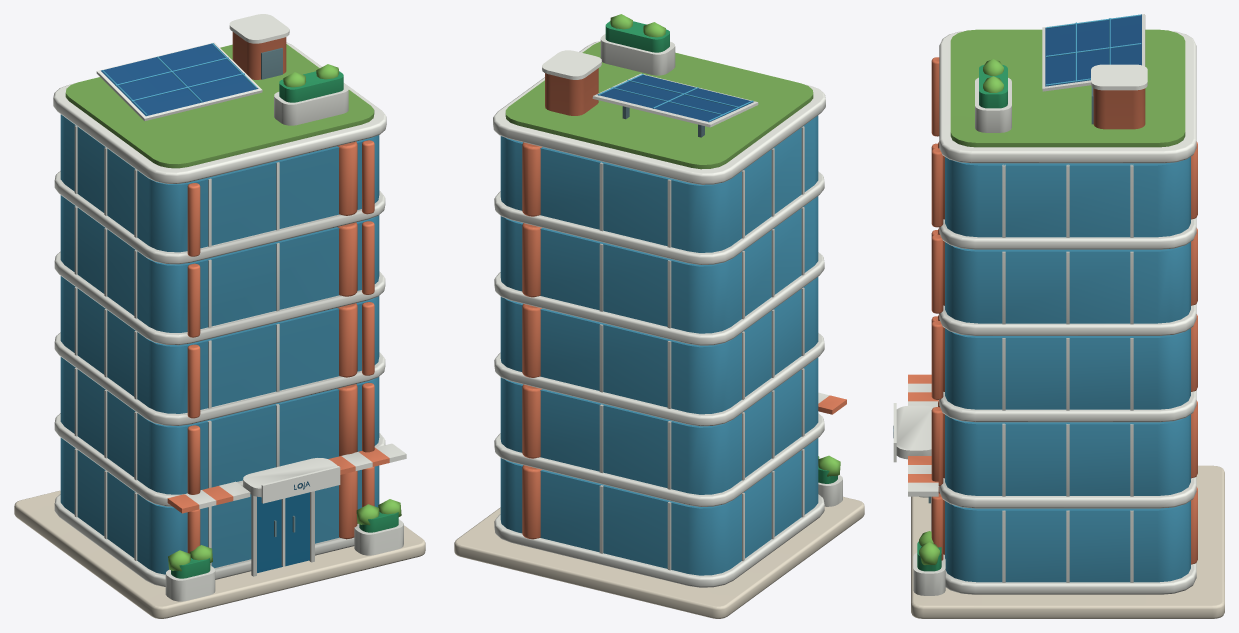
File: townhouse-coral-low.glb
3 views of the same model, side by side, from view 1: azimuth 30°, elevation 25°; view 2: azimuth 150°, elevation 25°; view 3: azimuth 270°, elevation 25° (orthographic). The views are drawn at different scales.
Parts seen in each view (by area): view 1: continuous blue glazing, floor rim, coloured facade fin, green roof, paved building footprint, photovoltaic cells, recessed entrance, planter foliage, shrub tip, roof access hatch; view 2: continuous blue glazing, floor rim, green roof, paved building footprint, coloured facade fin, photovoltaic cells, planter foliage, shrub tip; view 3: continuous blue glazing, floor rim, green roof, paved building footprint, coloured facade fin, photovoltaic cells, planter foliage, shrub tip.
Boxes of the visible parts, x1=… form: continuous blue glazing: x1=60, y1=43, x2=379, y2=574; floor rim: x1=53, y1=14, x2=406, y2=601; coloured facade fin: x1=167, y1=32, x2=389, y2=553; green roof: x1=65, y1=44, x2=374, y2=168; paved building footprint: x1=14, y1=490, x2=425, y2=618; photovoltaic cells: x1=101, y1=43, x2=258, y2=116; recessed entrance: x1=257, y1=492, x2=309, y2=572; planter foliage: x1=171, y1=71, x2=398, y2=578; shrub tip: x1=168, y1=64, x2=401, y2=571; roof access hatch: x1=261, y1=48, x2=295, y2=536; continuous blue glazing: x1=500, y1=74, x2=818, y2=575; floor rim: x1=493, y1=34, x2=842, y2=587; green roof: x1=505, y1=41, x2=813, y2=169; paved building footprint: x1=454, y1=496, x2=864, y2=618; coloured facade fin: x1=522, y1=68, x2=846, y2=539; photovoltaic cells: x1=597, y1=75, x2=753, y2=122; planter foliage: x1=605, y1=21, x2=837, y2=483; shrub tip: x1=610, y1=14, x2=840, y2=476; continuous blue glazing: x1=945, y1=14, x2=1190, y2=582; floor rim: x1=893, y1=14, x2=1196, y2=595; green roof: x1=950, y1=29, x2=1185, y2=147; paved building footprint: x1=911, y1=465, x2=1224, y2=618; coloured facade fin: x1=908, y1=57, x2=1197, y2=564; photovoltaic cells: x1=1045, y1=14, x2=1141, y2=86; planter foliage: x1=917, y1=64, x2=1007, y2=571; shrub tip: x1=919, y1=59, x2=1003, y2=564.
Bounding box in the file's own units: 2.72 × 4.56 × 2.69.
